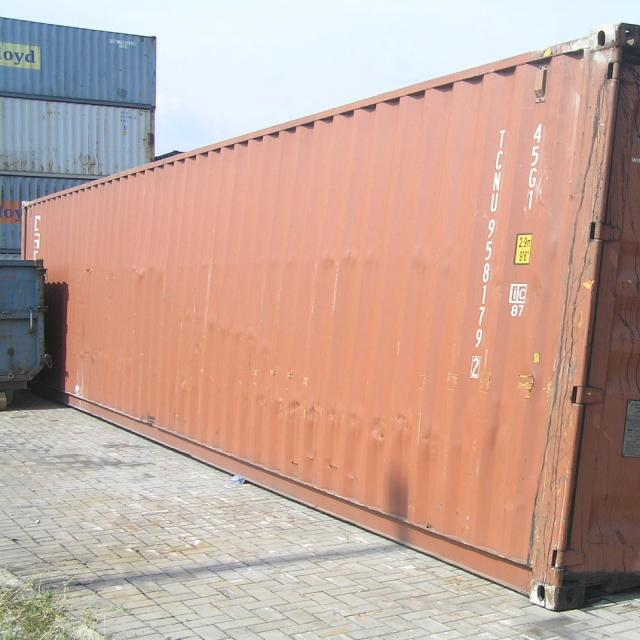hole: (307, 455, 316, 464), (330, 465, 339, 473), (288, 372, 295, 382), (272, 370, 279, 380), (292, 461, 300, 468), (86, 269, 93, 275)
